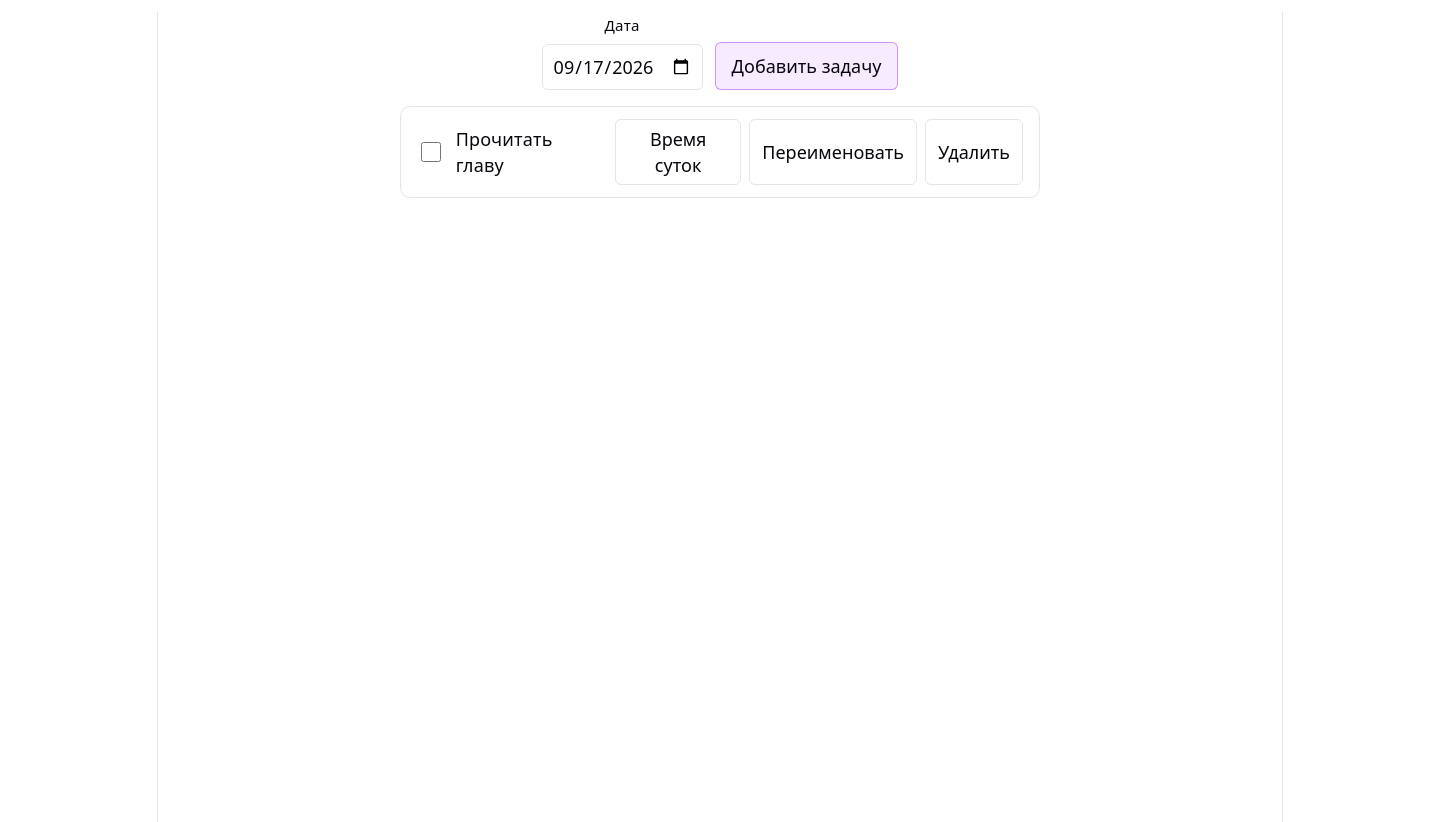
TasksTab › отмечает выполнение задачи
Click the checkbox labelled "Прочитать главу" at x=431, y=152, box [421,142,441,162]
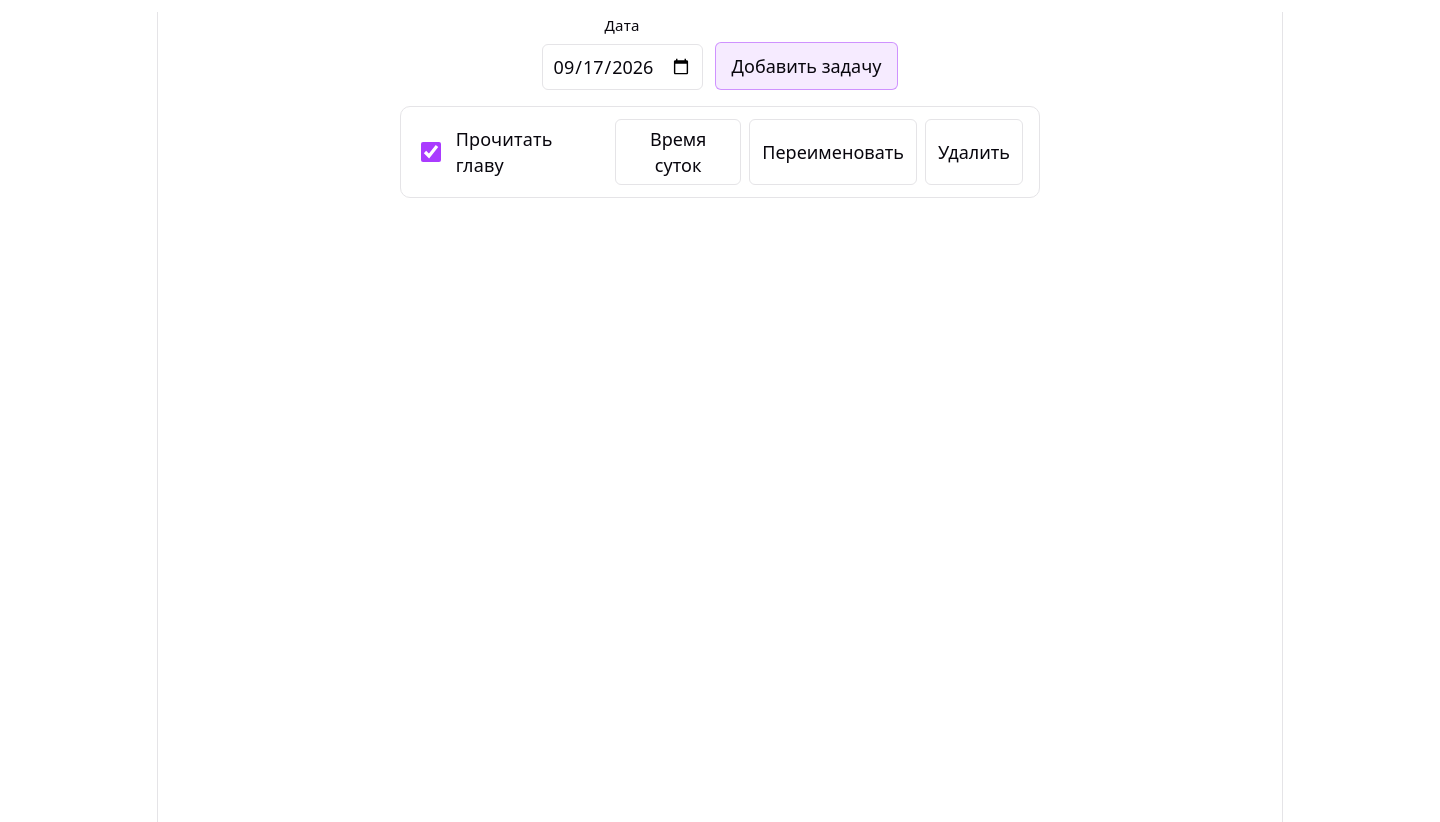
Expected: the checkbox labelled "Прочитать главу" is checked, [421,142,441,162]
